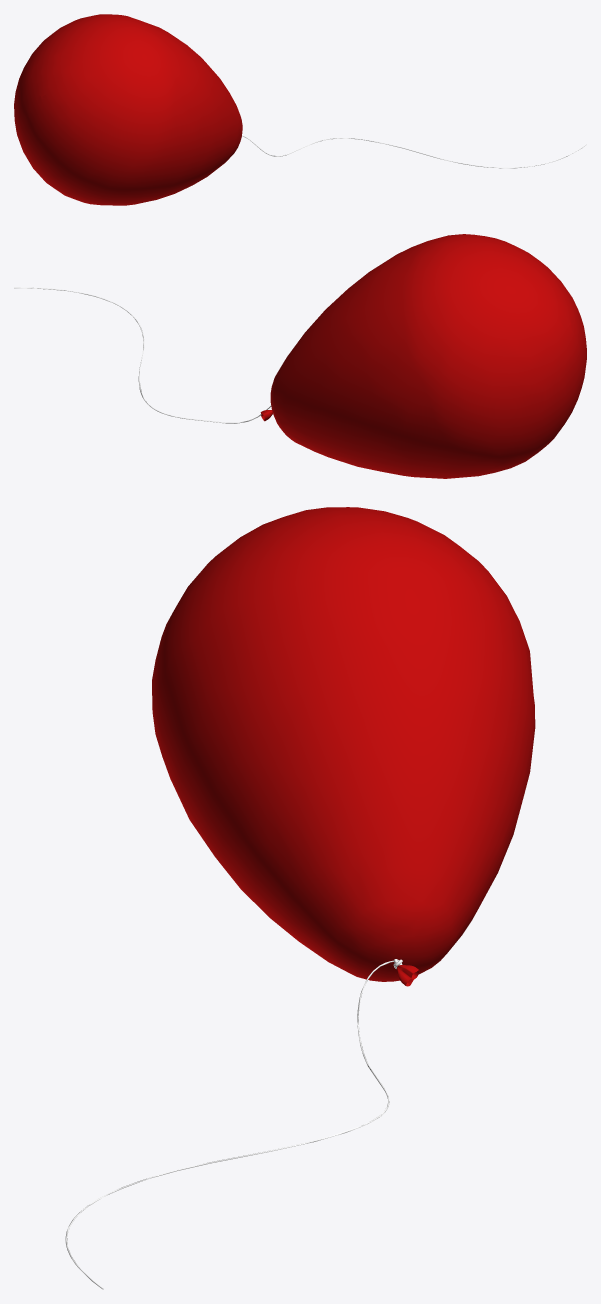
Rendered from Baloon.FBX.
3 renders of one model, top to bottom at view 1: azimuth 30°, elevation 25°; view 2: azimuth 150°, elevation 25°; view 3: azimuth 270°, elevation 25°, orthographic. The views are drawn at different scales.
Visible parts, largest first — view 1: baloon; view 2: baloon; view 3: baloon.
Boxes of the visible parts, x1=… form: baloon: x1=14, y1=14, x2=586, y2=205; baloon: x1=14, y1=234, x2=586, y2=478; baloon: x1=65, y1=507, x2=535, y2=1289.
Size of the model in its own units: 67.47 by 23.34 by 27.39.
